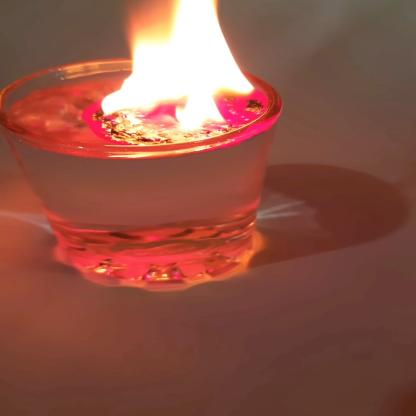Fire: (94, 0, 262, 142)
